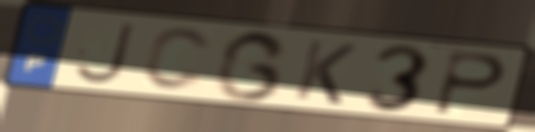3: (364, 43, 434, 115)
C: (139, 25, 216, 93)
G: (211, 28, 292, 103)
J: (70, 20, 138, 87)
K: (290, 37, 360, 107)
P: (429, 48, 511, 118)
